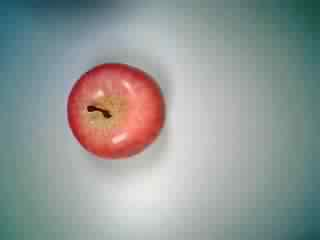apple: (64, 58, 169, 162)
